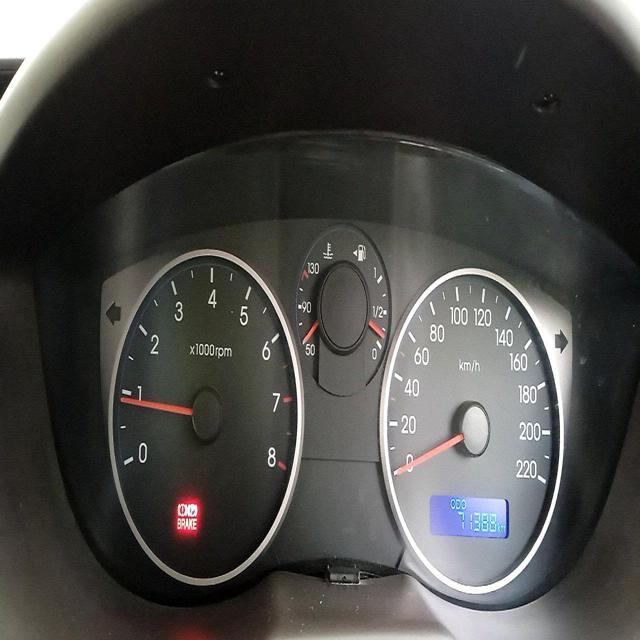odometer: (454, 509, 499, 533)
